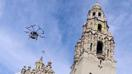UAV: (129, 70, 132, 74)
